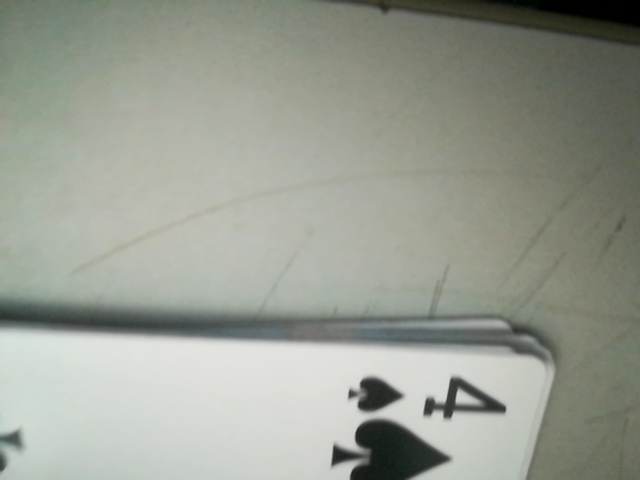ht 4: (342, 364, 516, 423)
